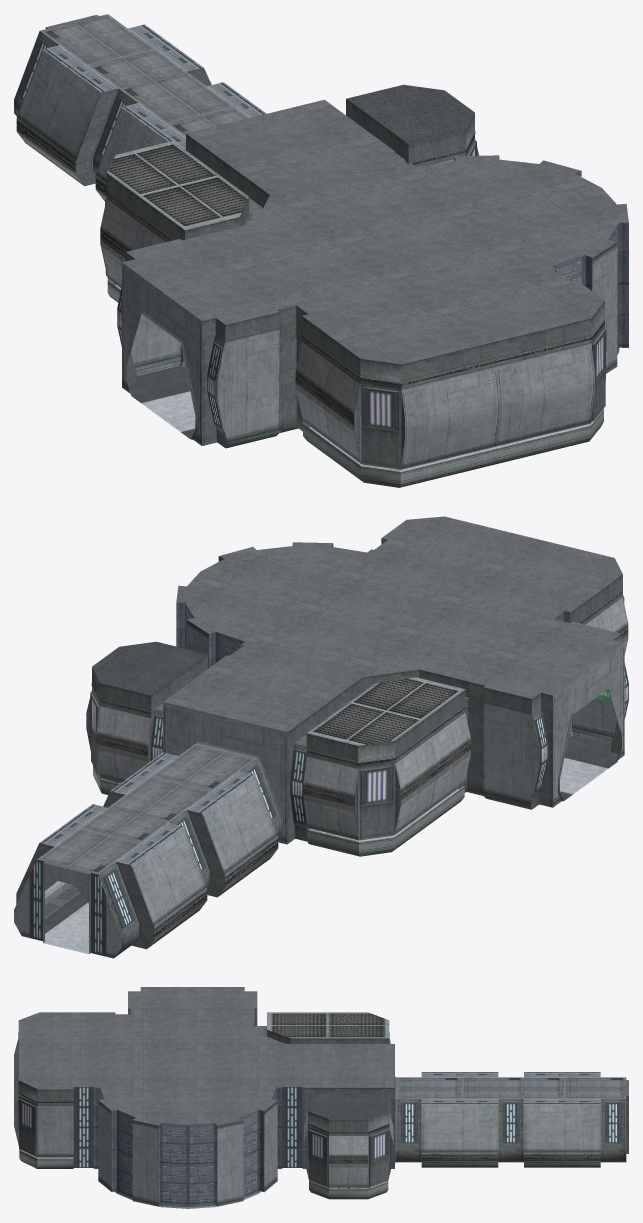
The model's file is thm_newbie_hall_r3_mesh_r3.fbx.
3 views of the same model, one above another, from view 1: azimuth 30°, elevation 25°; view 2: azimuth 150°, elevation 25°; view 3: azimuth 270°, elevation 25° (orthographic). The views are drawn at different scales.
Parts seen in each view (by area): view 1: mesh_node; view 2: mesh_node; view 3: mesh_node.
Boxes of the visible parts, bbox=[...] form: mesh_node: bbox=[14, 14, 628, 487]; mesh_node: bbox=[14, 516, 628, 958]; mesh_node: bbox=[14, 987, 628, 1208].
Bounding box in the file's own units: 2577 × 750 × 4811.
